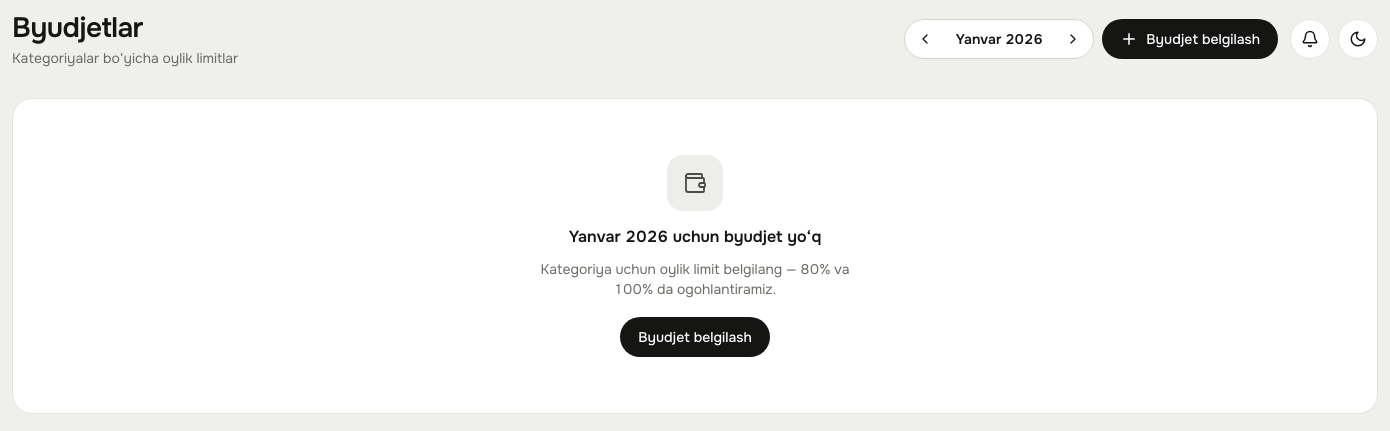
it: BudgetsPage › moves between months
Expected: the heading "Yanvar 2026 uchun byudjet yo‘q" is shown, [569, 225, 821, 249]
Click the button named "Oldingi oy".
click(925, 39)  # box [909, 23, 941, 55]
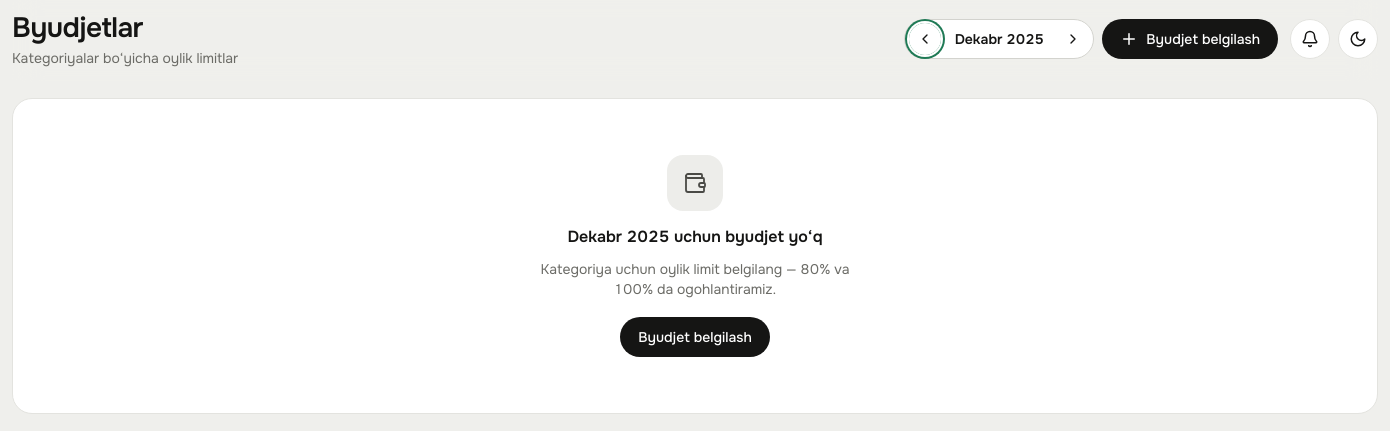
Expected: the heading "Dekabr 2025 uchun byudjet yo‘q" is shown, [567, 225, 823, 249]
